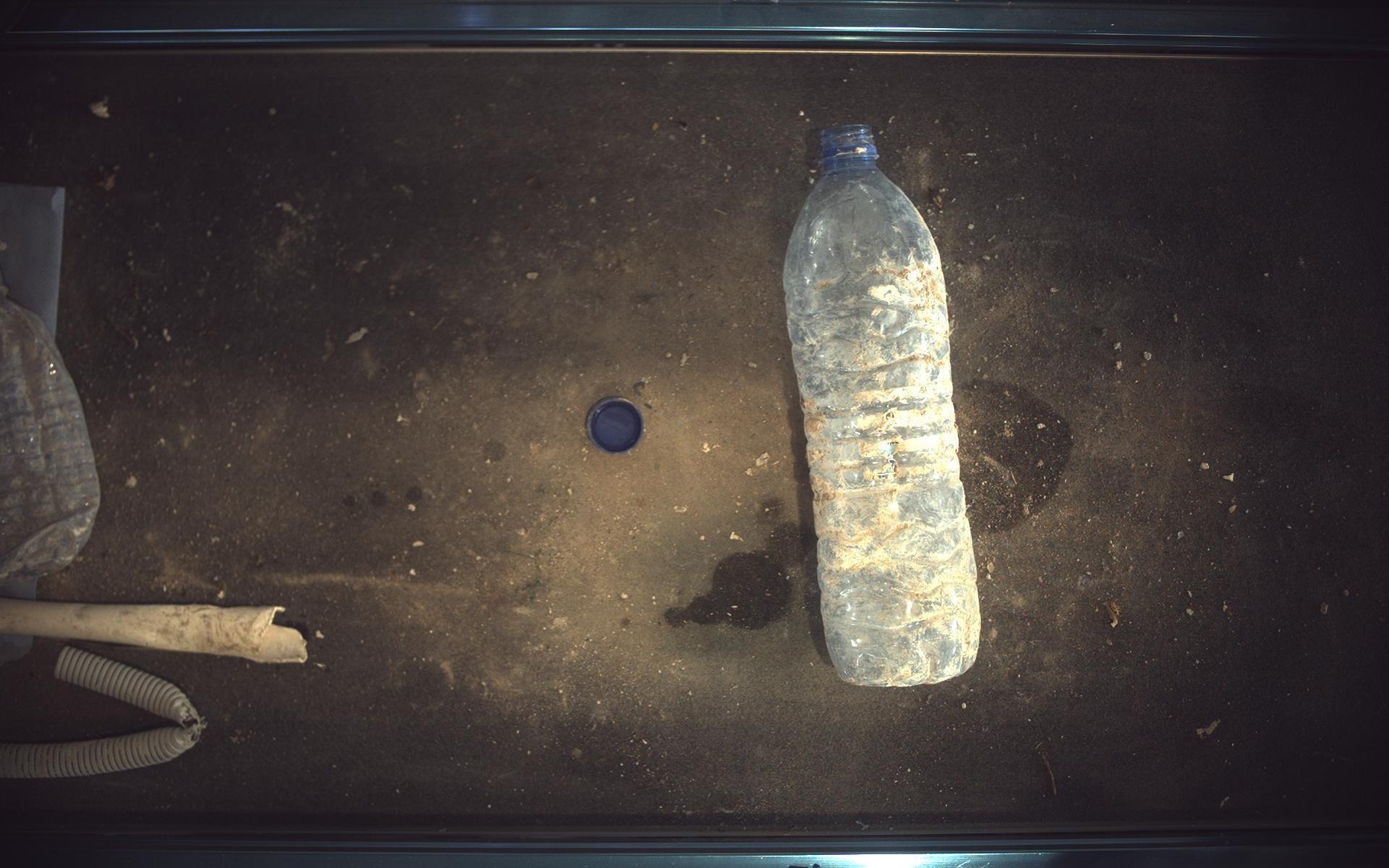general_w: (785, 124, 983, 687), (586, 397, 645, 454)
